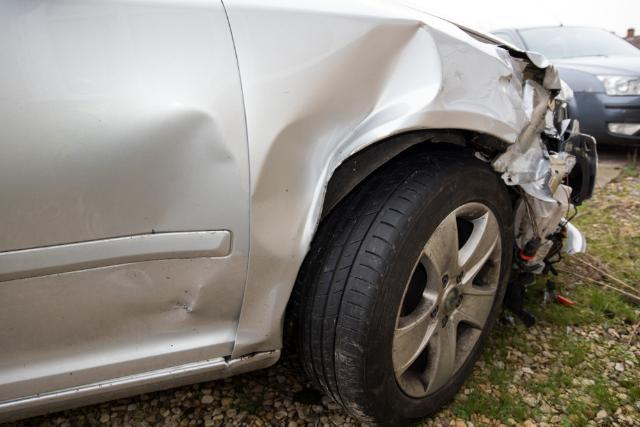dent: (240, 22, 444, 327), (85, 110, 251, 338), (493, 48, 549, 143)
no part: (492, 45, 598, 299)
